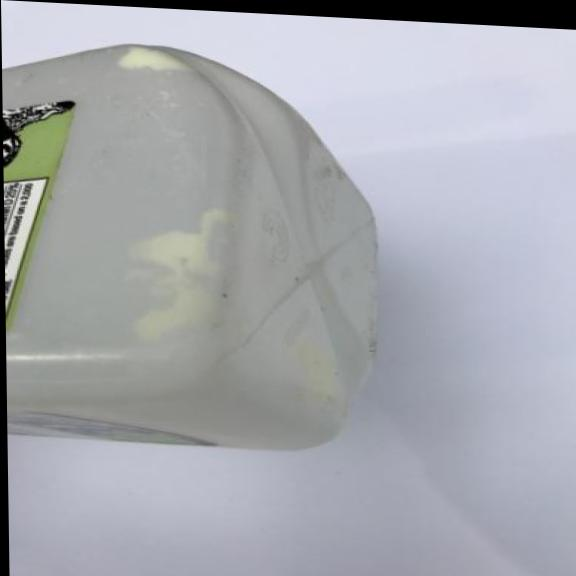Plastik: (1, 38, 384, 456)
